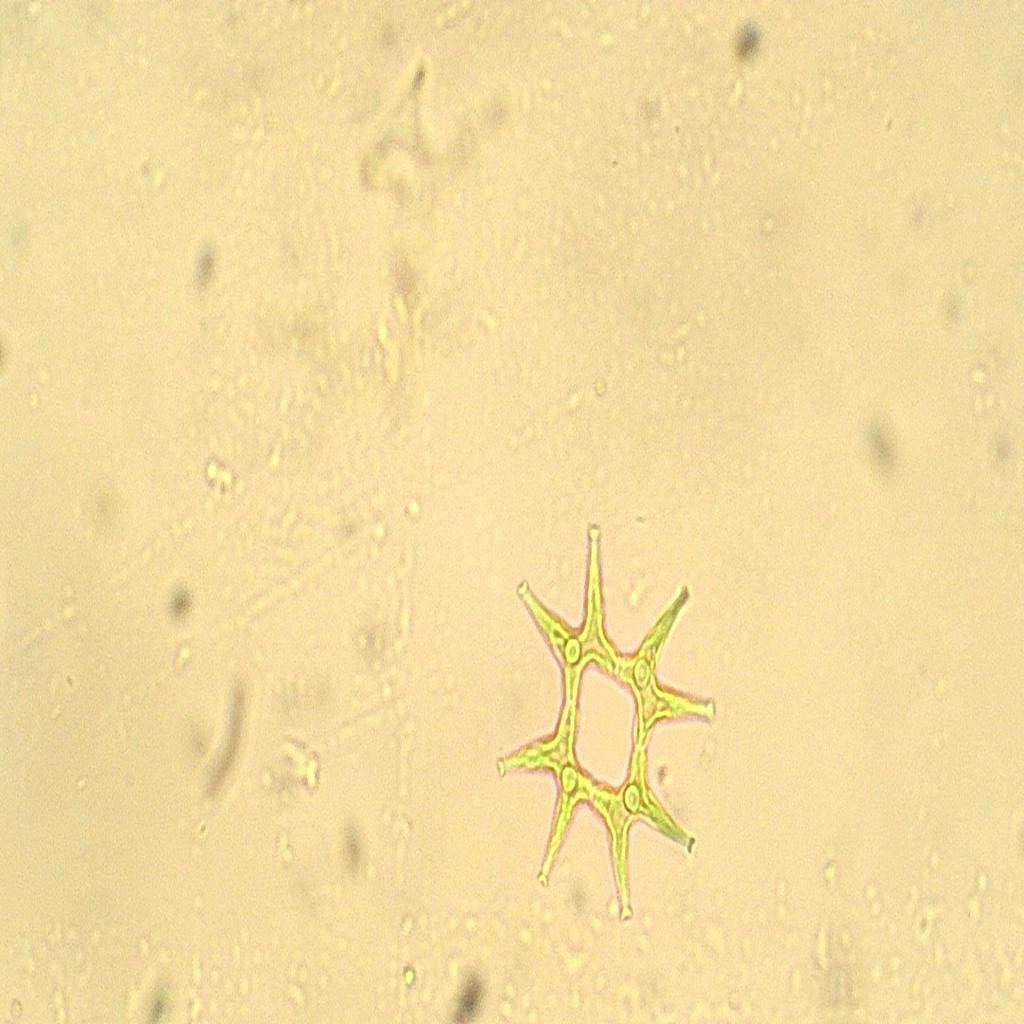Pediastrum_CO: (476, 513, 732, 935)
